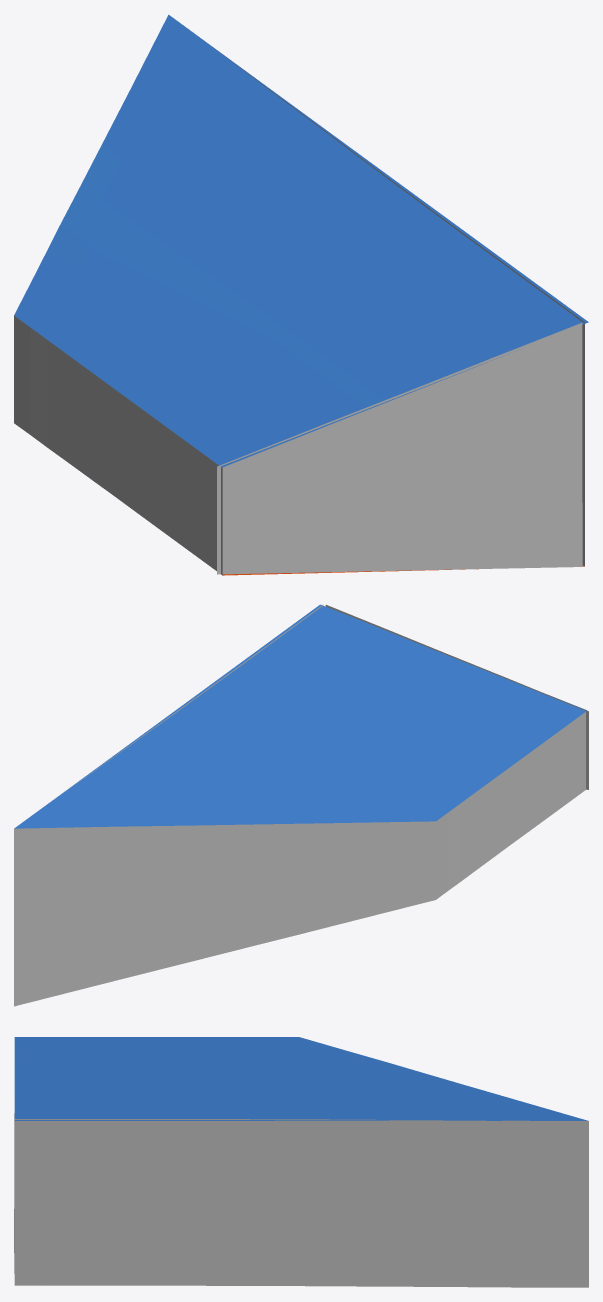
Rendered from Ames Room3.fbx.
The picture shows the model from 3 angles, top to bottom: view 1: azimuth 30°, elevation 25°; view 2: azimuth 150°, elevation 25°; view 3: azimuth 270°, elevation 25°; orthographic projection. The views are drawn at different scales.
Visible parts, largest first — view 1: Roof, Front_Wall, Left_Wall, Right_Wall; view 2: Roof, Back_Wall, Left_Wall, Front_Wall; view 3: Right_Wall, Roof.
Boxes of the visible parts, left/top/right/bottom form: Roof: left=14, top=14, right=588, bottom=467; Front_Wall: left=217, top=323, right=582, bottom=574; Left_Wall: left=14, top=316, right=222, bottom=575; Right_Wall: left=222, top=54, right=584, bottom=566; Roof: left=14, top=604, right=587, bottom=828; Back_Wall: left=14, top=821, right=435, bottom=1006; Left_Wall: left=436, top=712, right=585, bottom=899; Front_Wall: left=325, top=605, right=588, bottom=789; Right_Wall: left=14, top=1119, right=588, bottom=1287; Roof: left=14, top=1037, right=587, bottom=1120.
Size of the model in its own units: 319 by 202 by 628.
